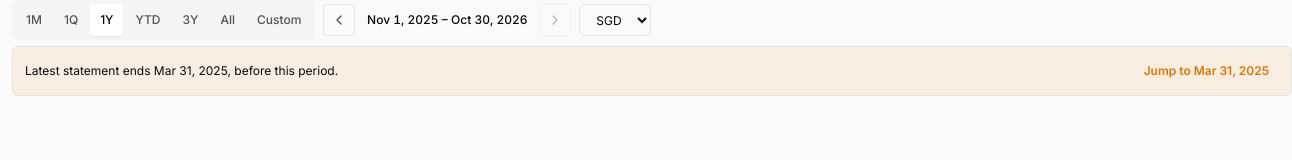
Scenario: Issue #2763: report coverage notes, opening balance warnings, and FirstRunModal persistence › AC-reporting.fe-period-cockpit.7 keeps coverageLimitingAccounts and report-coverage-note visible for All and after jumping to latestStatementEnd
The image size is (1292, 160).
Expected: the message with test id "report-latest-statement-banner" shows "Latest statement ends Mar 31, 2025, before this period.", [25,63,338,78]
What coordinates should you click on to do the following:
click the button "Jump to Mar 31, 2025"
I would click on:
 (1206, 71)
Its box is [1134,55,1279,87].
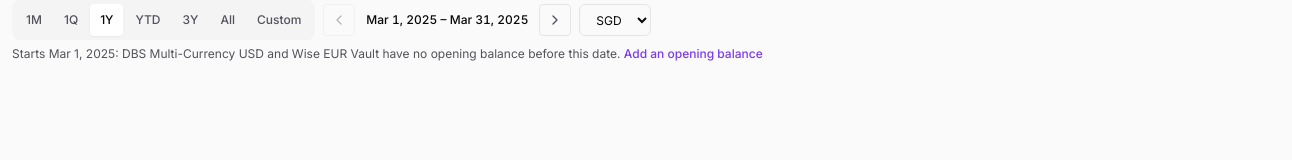
Expected: the element with test id "report-coverage-note" shows "Starts Mar 1, 2025: DBS Multi-Currency USD and Wise EUR Vault have no opening balance before this date.", [12,46,620,61]
